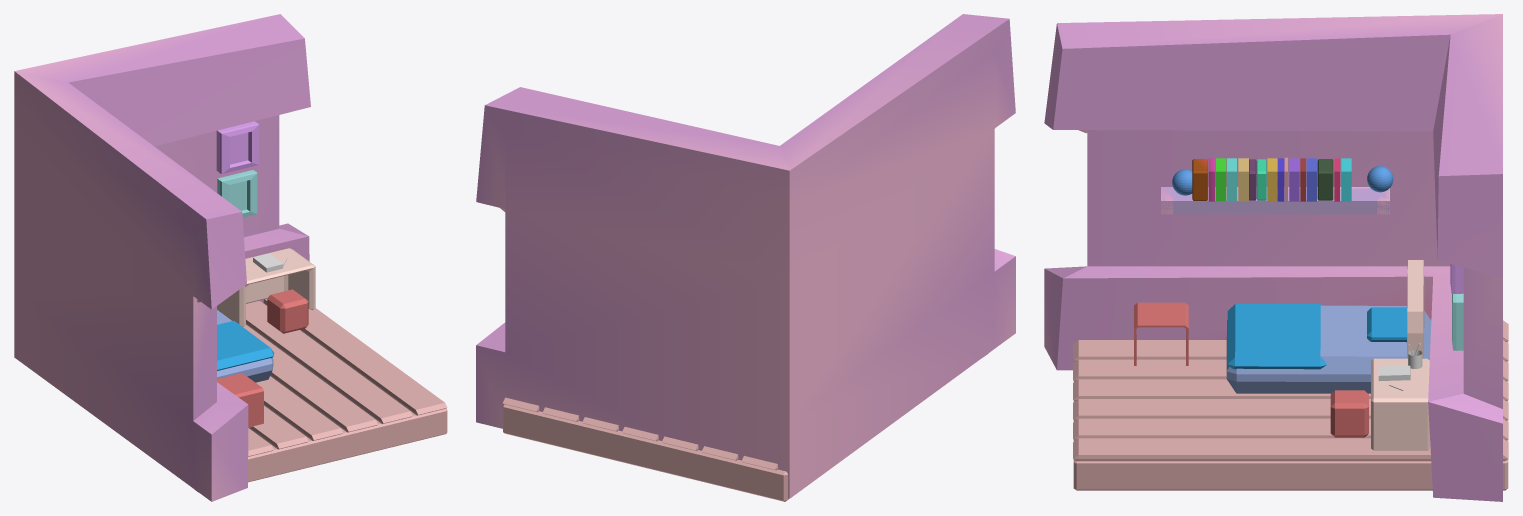
Rendered from room.fbx.
3 views of the same model, side by side, from view 1: azimuth 30°, elevation 25°; view 2: azimuth 150°, elevation 25°; view 3: azimuth 270°, elevation 25° (orthographic). The views are drawn at different scales.
Visible parts, largest first — view 1: Cube, Plane.002, Plane, Cube.005, Cube.003, Plane.005, Cube.006, Cube.002, Cube.007, Plane.003; view 2: Cube, Plane, Plane.002; view 3: Cube, Plane.002, Plane, Plane.003, Plane.005, Cube.005, Cube.004, Cube.006, Cube.007, Plane.004, Plane.006, Cube.015 (+3 smaller).
Boxes of the visible parts, box(x1,y1,x2,y2) form: Cube: box(14, 14, 310, 501); Plane.002: box(243, 298, 447, 456); Plane: box(247, 304, 447, 482); Cube.005: box(217, 248, 315, 326); Cube.003: box(216, 121, 259, 173); Plane.005: box(217, 321, 274, 370); Cube.006: box(267, 289, 308, 333); Cube.002: box(217, 170, 257, 217); Cube.007: box(217, 373, 263, 427); Plane.003: box(217, 310, 273, 382); Cube: box(476, 14, 1015, 498); Plane: box(503, 404, 788, 501); Plane.002: box(503, 397, 778, 470); Cube: box(1044, 14, 1502, 501); Plane.002: box(1073, 320, 1508, 461); Plane: box(1073, 341, 1508, 490); Plane.003: box(1226, 305, 1431, 393); Plane.005: box(1227, 304, 1326, 369); Cube.005: box(1371, 358, 1429, 450); Cube.004: box(1161, 187, 1389, 214); Cube.006: box(1330, 390, 1368, 437); Cube.007: box(1134, 302, 1188, 365); Plane.004: box(1407, 260, 1424, 358); Plane.006: box(1367, 307, 1406, 342); Cube.015: box(1317, 159, 1333, 200).
Size of what is drawn, in the model's own units: 221 by 227 by 279.
